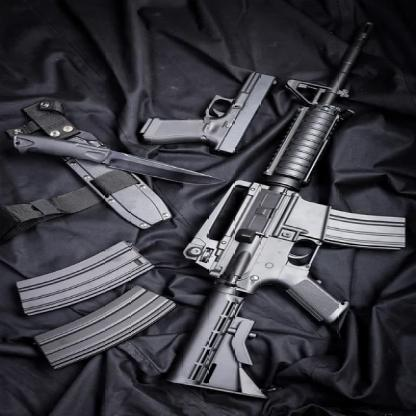Gun: (167, 17, 410, 402)
Knife: (5, 97, 229, 232)
Pistol: (138, 72, 278, 157)
